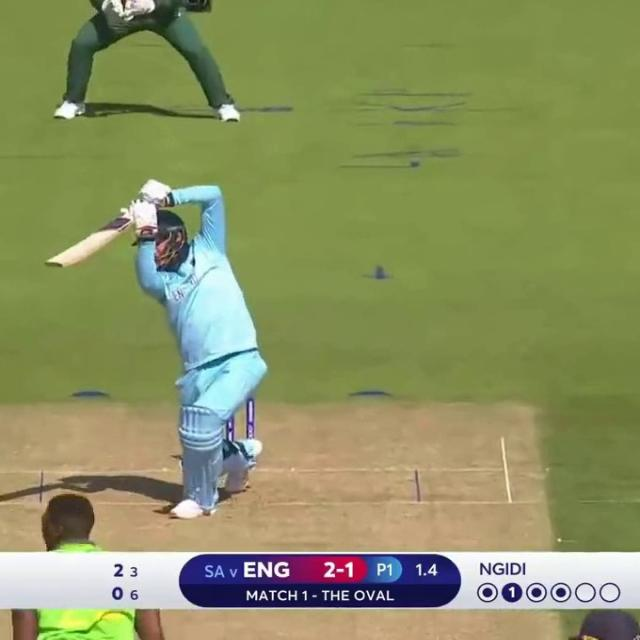bat: (44, 219, 131, 269)
toe: (41, 261, 65, 269)
